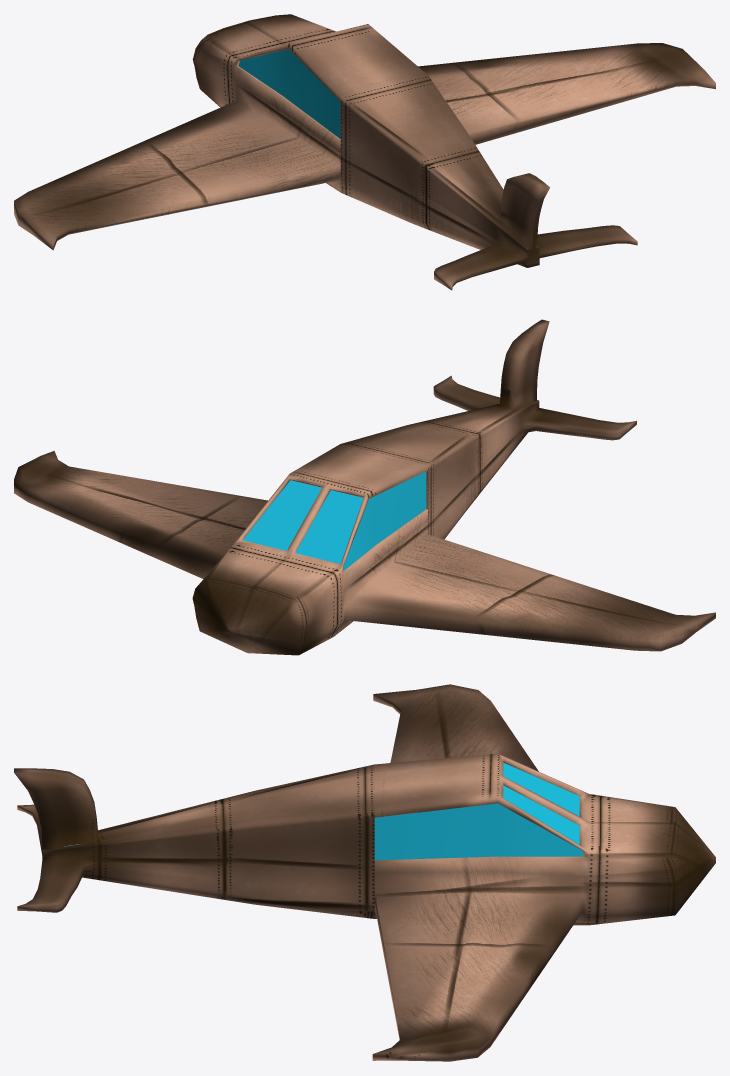
File: Avion .fbx
3 views of the same model, one above another, from view 1: azimuth 30°, elevation 25°; view 2: azimuth 150°, elevation 25°; view 3: azimuth 270°, elevation 25° (orthographic). The views are drawn at different scales.
Visible parts, largest first — view 1: Avion_1; view 2: Avion_1; view 3: Avion_1.
Boxes of the visible parts, x1,y1,x2,y2 form: Avion_1: [14, 14, 715, 290]; Avion_1: [14, 319, 715, 655]; Avion_1: [14, 684, 715, 1061].
Bounding box in the file's own units: 94.71 × 17.56 × 77.8.
